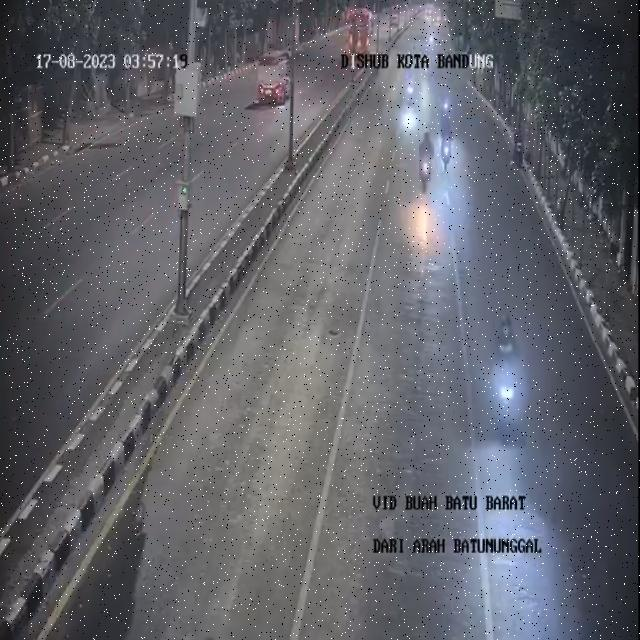motorcycle: (495, 315, 522, 444), (419, 133, 433, 194), (441, 119, 452, 170), (406, 65, 416, 108)
